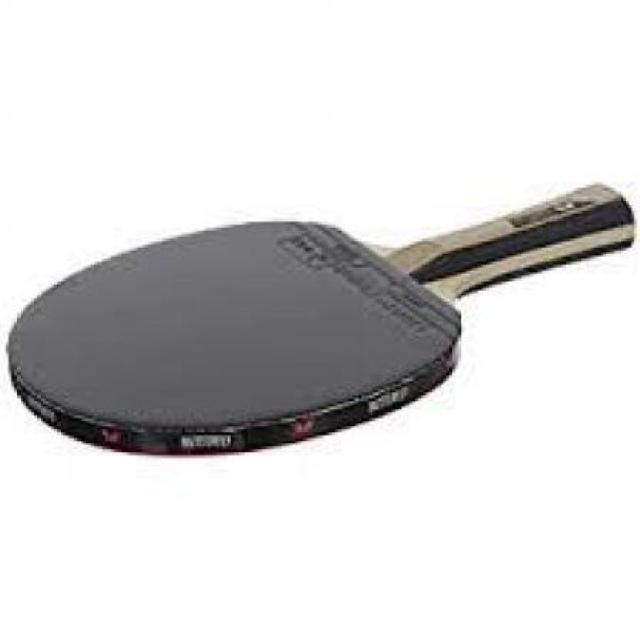table_tennis_racket: (0, 213, 471, 462)
